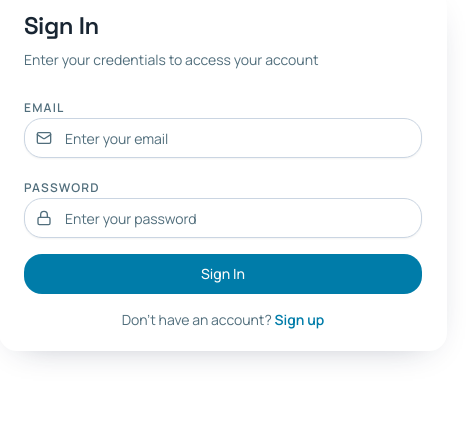
Test case: LoginForm › clears field errors when user starts typing
This screenshot has width=466, height=436.
# Trigger validation error
Click the button "Sign In": {"x": 223, "y": 274} top-left (24, 254), bottom-right (422, 294)
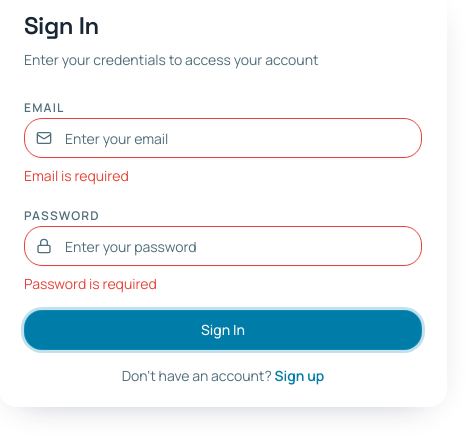
Now the text "Email is required" is shown, box top-left (24, 166), bottom-right (129, 185)
# Start typing to clear error
In the field labelled "Email": {"x": 223, "y": 138} top-left (24, 118), bottom-right (422, 158), type "test@example.com"
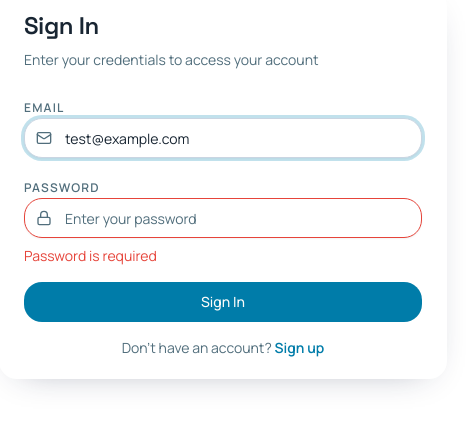
Now the text "Email is required" is gone
